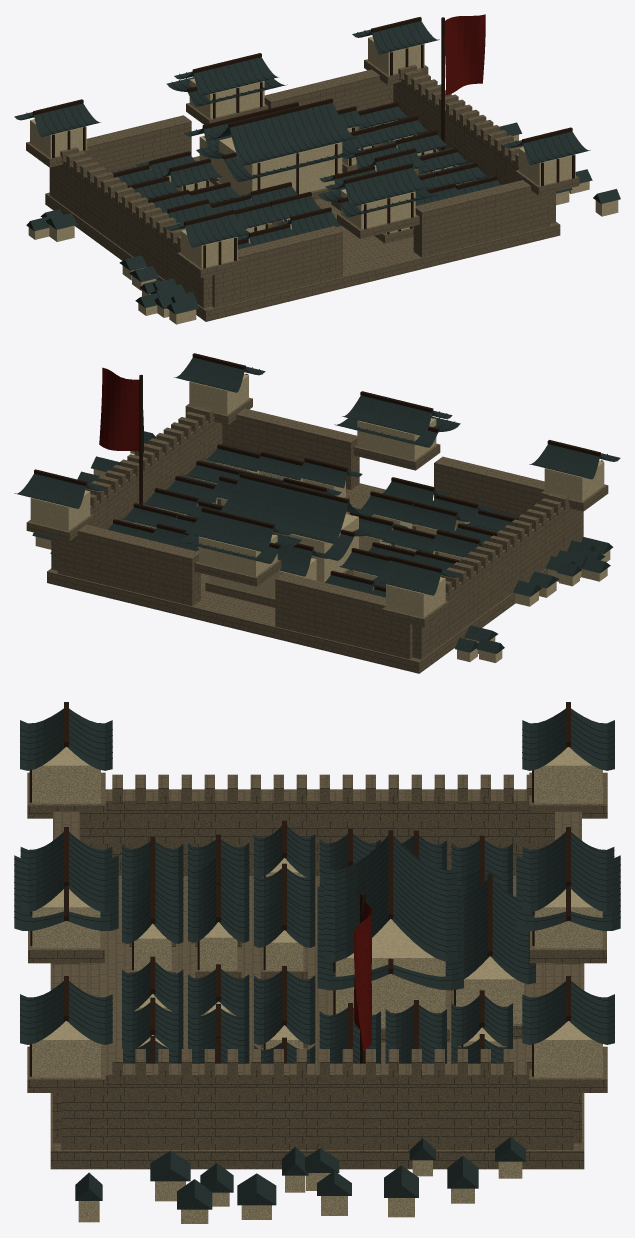
File: northern-city.glb
3 views of the same model, one above another, from view 1: azimuth 30°, elevation 25°; view 2: azimuth 150°, elevation 25°; view 3: azimuth 270°, elevation 25° (orthographic). The views are drawn at different scales.
Visible parts, largest first — view 1: Northern walled city.004; view 2: Northern walled city.004; view 3: Northern walled city.004.
Boxes of the visible parts, box(x1,y1,x2,y2) form: Northern walled city.004: box(14, 14, 620, 324); Northern walled city.004: box(14, 353, 620, 673); Northern walled city.004: box(14, 702, 620, 1223).
Bounding box in the file's own units: 9.94 × 3.11 × 6.67.
5 materials, 5 textured.
